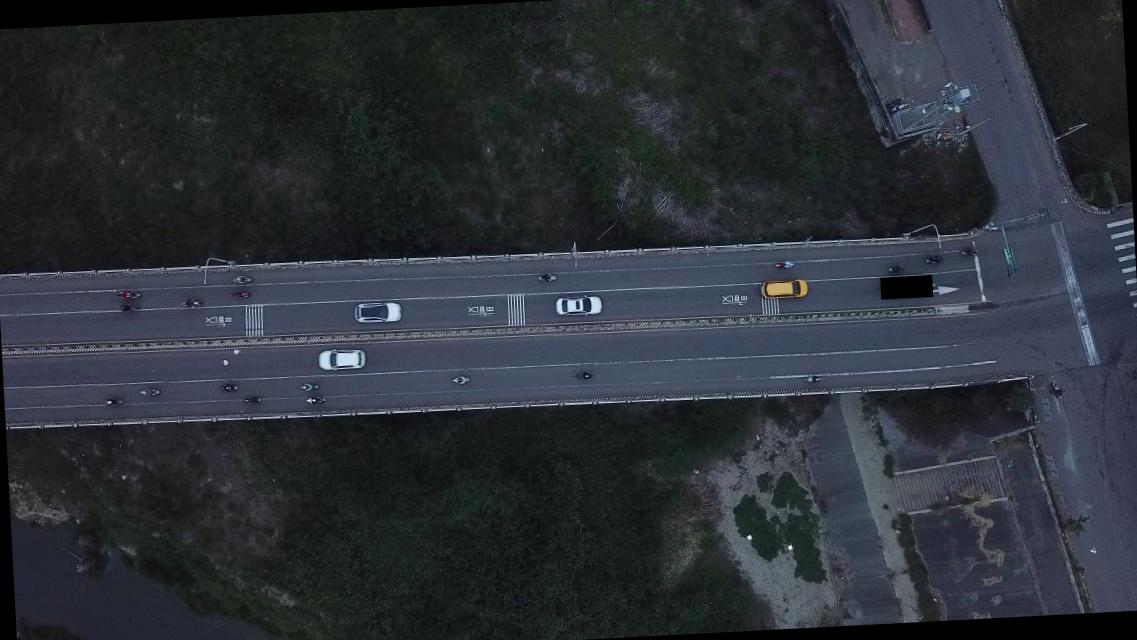vehicle: (317, 345, 366, 372), (759, 276, 809, 300), (554, 294, 602, 318), (354, 301, 400, 325)
